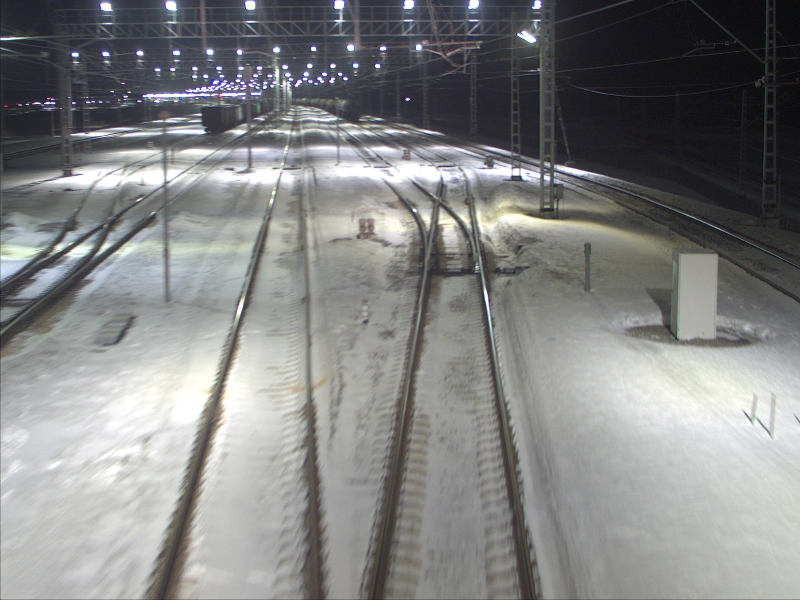right: (422, 191, 486, 280)
